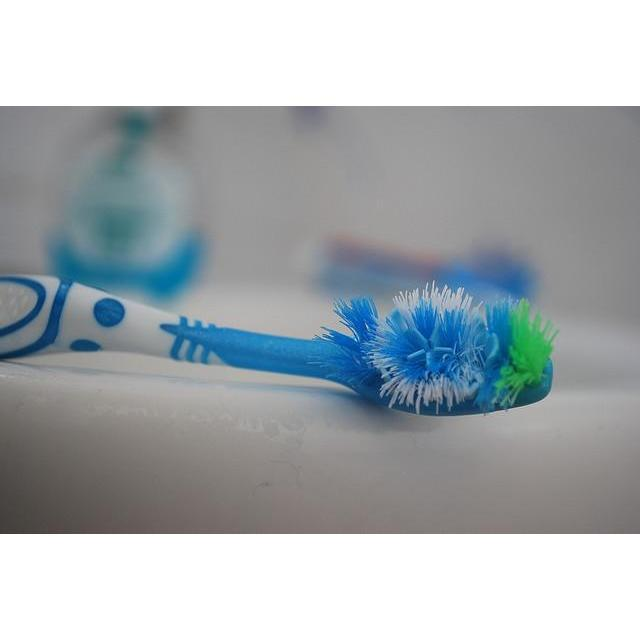toothbrush: (1, 274, 562, 418)
